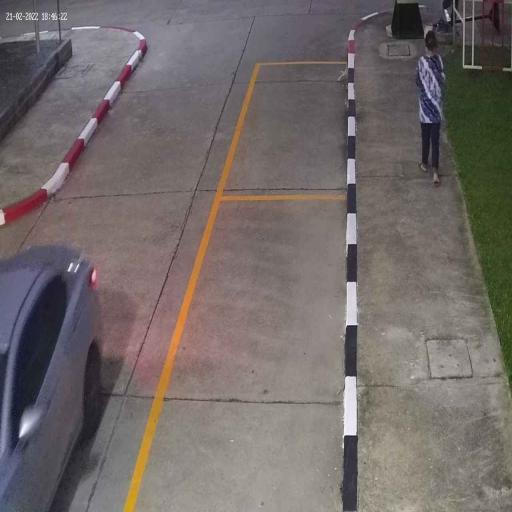car: (0, 247, 103, 512)
